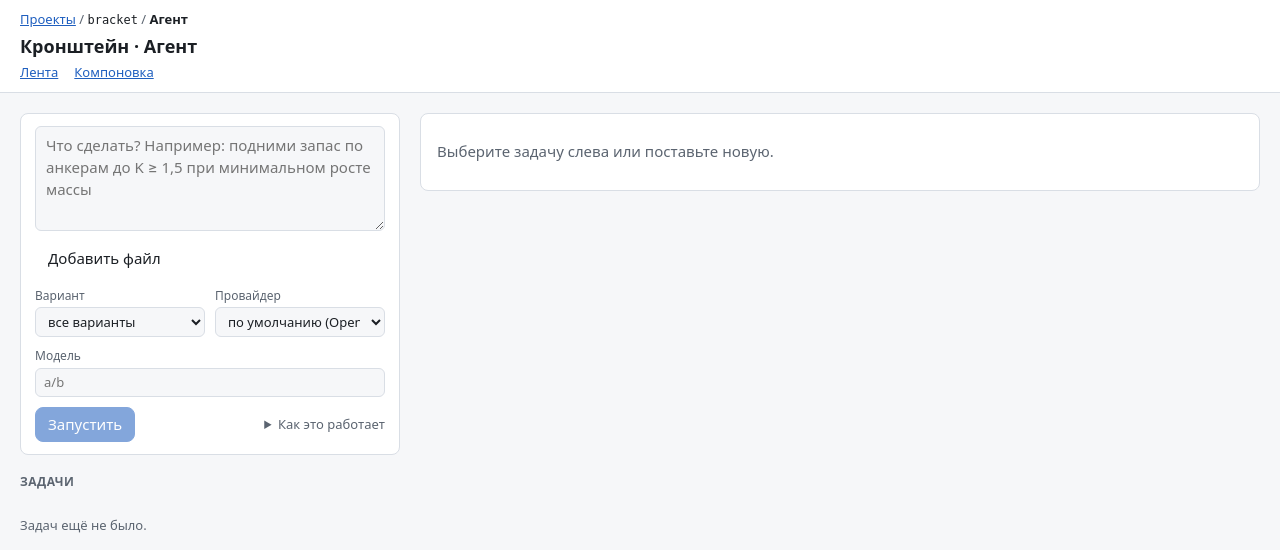
it: Провайдер и модель задачи › задача несёт выбранного провайдера и модель; по умолчанию поля не шлются
Replace the text in the text box named "Текст задачи" with "раз" at [210, 179], box left=35, top=126, right=385, bottom=231
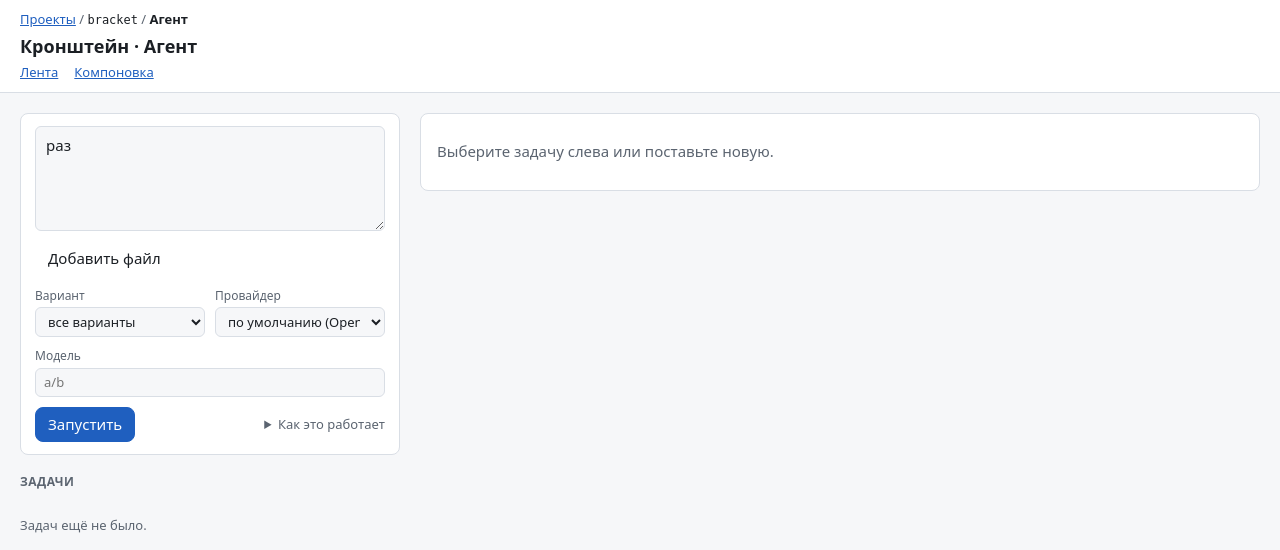
Click the button "Запустить" at [85, 424], box left=35, top=407, right=135, bottom=442
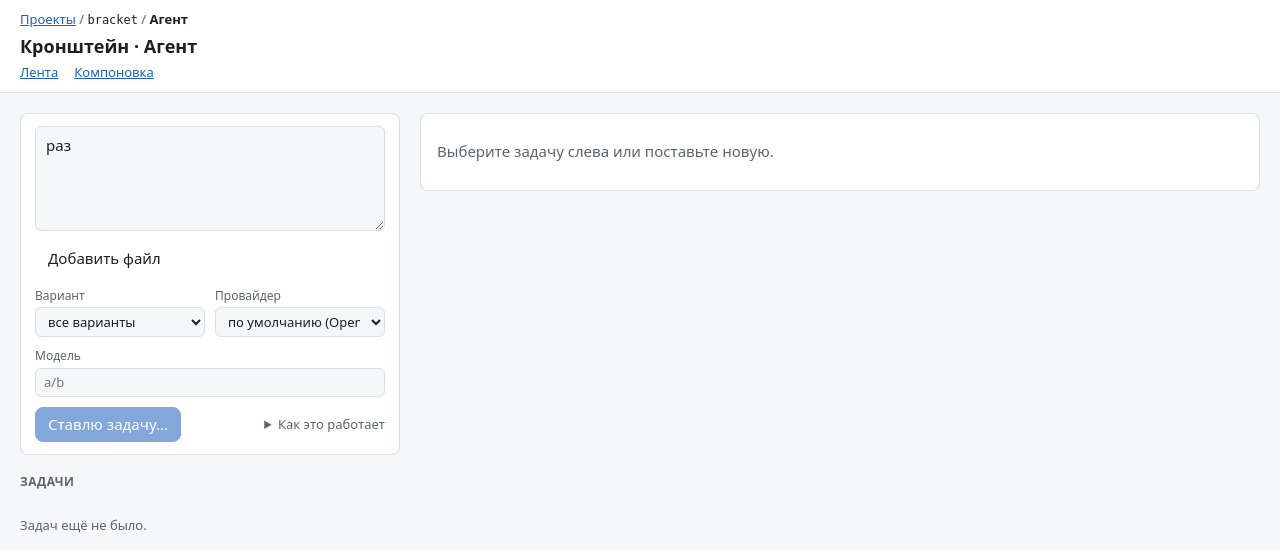
Select "OpenRouter" in the dropdown labelled "Провайдер" at [300, 322], box left=215, top=307, right=385, bottom=337
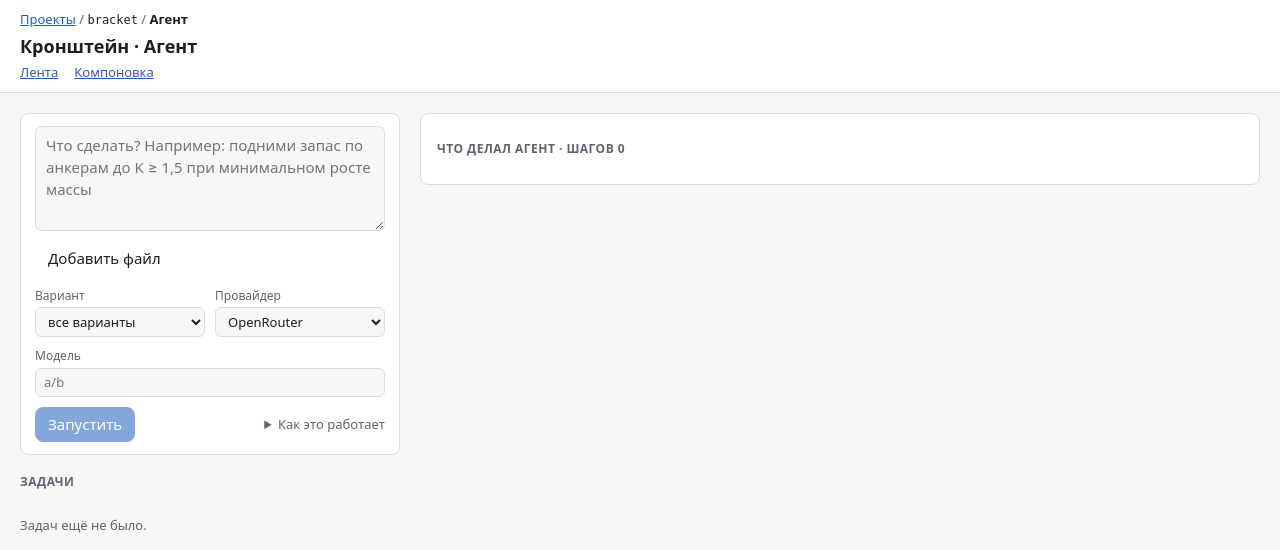
Type "c/d" into the field labelled "Модель" at [210, 382], box left=35, top=368, right=385, bottom=397
Replace the text in the text box named "Текст задачи" with "два" at [210, 179], box left=35, top=126, right=385, bottom=231
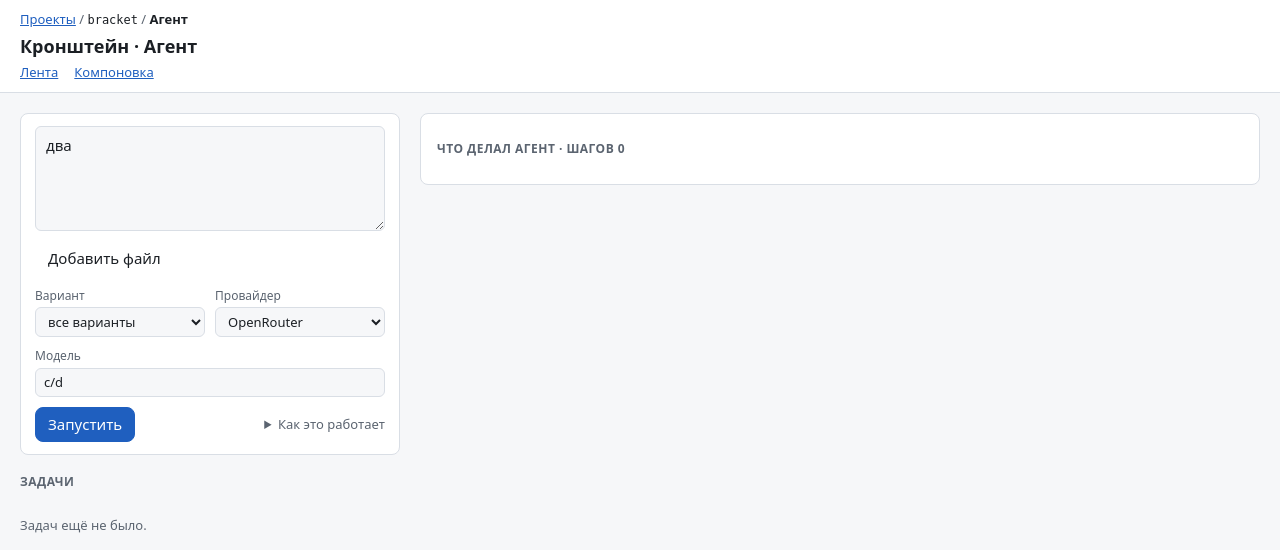
Click the button "Запустить" at [85, 424], box left=35, top=407, right=135, bottom=442
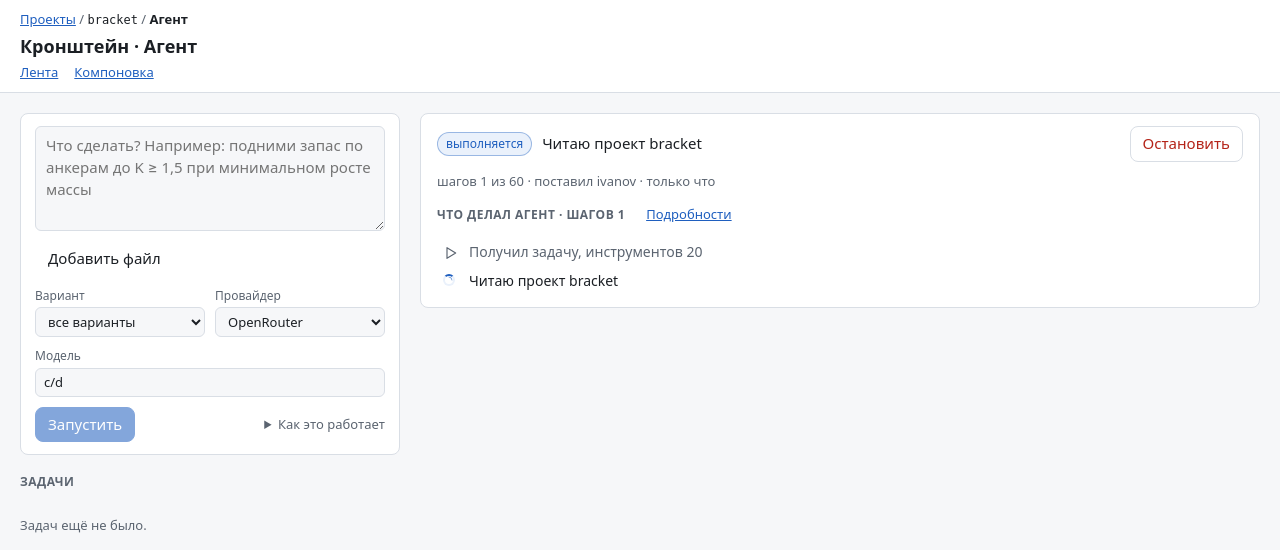
Select "Claude Code" in the dropdown labelled "Провайдер" at [300, 322], box left=215, top=307, right=385, bottom=337
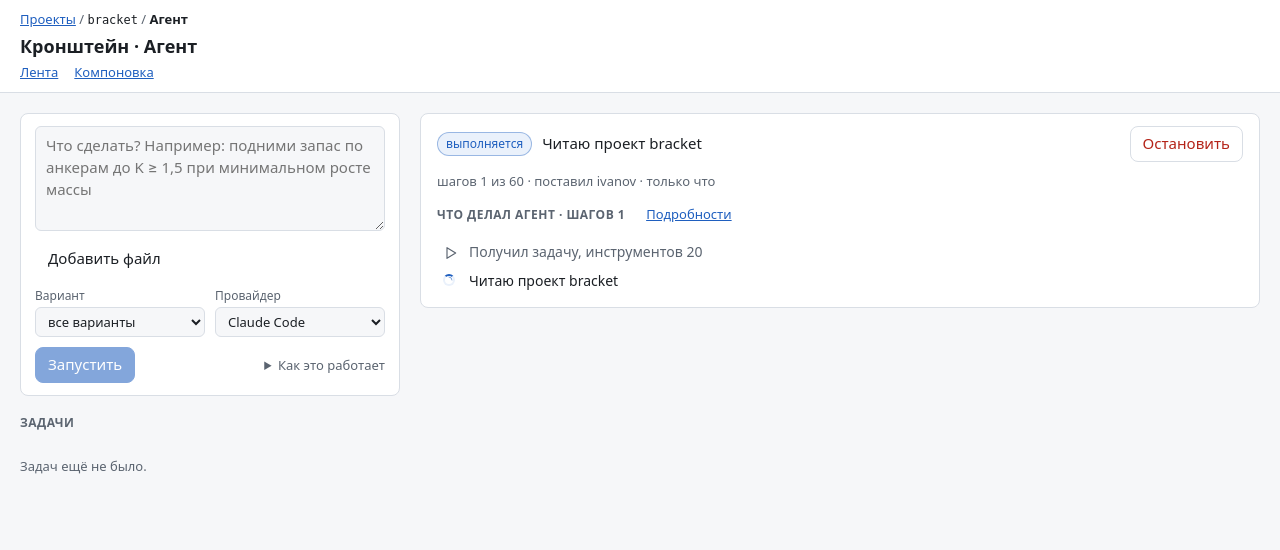
Check: the label labelled "Модель" is gone
